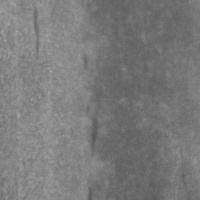inclusion: (81, 109, 108, 162), (28, 6, 46, 67)
